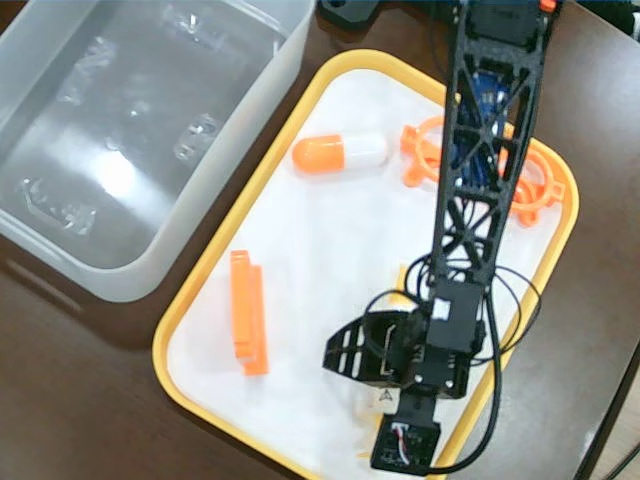pill: (290, 133, 394, 174)
